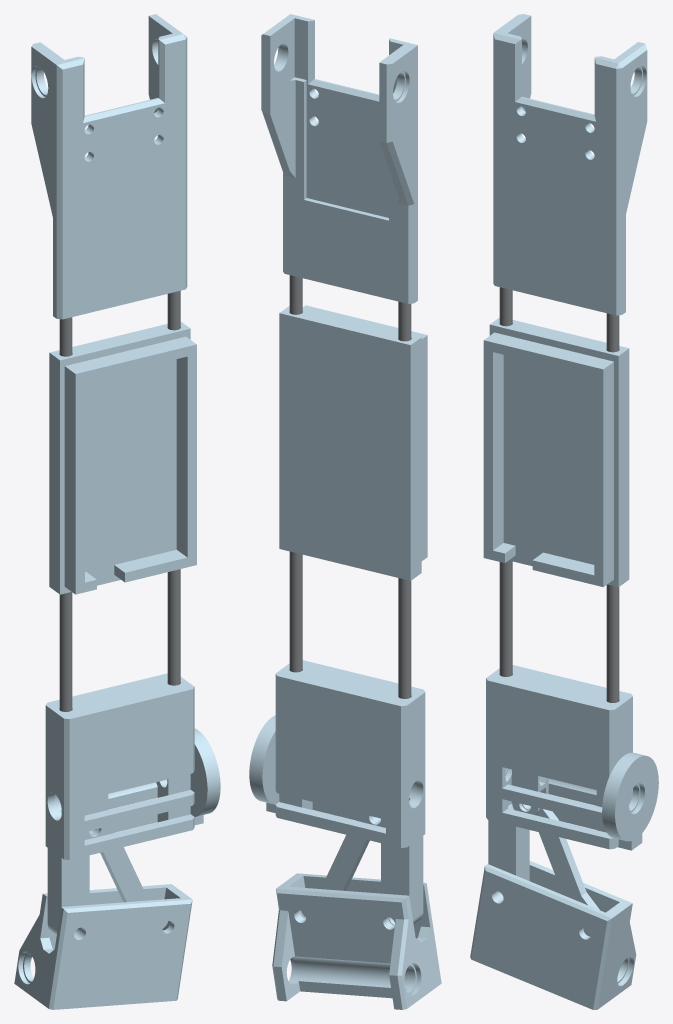
Rendered from Slim.glb.
3 renders of one model, left to right at view 1: azimuth 30°, elevation 25°; view 2: azimuth 150°, elevation 25°; view 3: azimuth 330°, elevation 25°, orthographic.
Visible parts, largest first — view 1: ArduinoHolder, BackPartImproved, SwivelV2, FrontV2, Part 1 (×2), SwivelAttachV2, BentArm, BoltHolderV3; view 2: ArduinoHolder, BackPartImproved, SwivelV2, FrontV2, Part 1 (×2), SwivelAttachV2, BentArm; view 3: ArduinoHolder, BackPartImproved, SwivelV2, FrontV2, SwivelAttachV2, Part 1 (×2), BentArm, BoltHolderV3.
Part boxes in pixels (x1,y1,x2,y2): ArduinoHolder: (49,321,196,594); BackPartImproved: (31,14,187,319); SwivelV2: (45,673,194,936); FrontV2: (14,884,192,1009); Part 1 (×2): (59,290,180,711); SwivelAttachV2: (156,728,220,825); BentArm: (89,828,167,928); BoltHolderV3: (84,794,108,839); ArduinoHolder: (279,305,427,580); BackPartImproved: (261,14,417,303); SwivelV2: (275,660,425,925); FrontV2: (272,873,441,1009); Part 1 (×2): (289,275,411,698); SwivelAttachV2: (249,715,312,812); BentArm: (301,816,380,916); ArduinoHolder: (483,317,629,587); BackPartImproved: (493,14,647,315); SwivelV2: (486,665,632,900); FrontV2: (470,861,636,1009); SwivelAttachV2: (596,752,658,850); Part 1 (×2): (499,287,619,702); BentArm: (522,804,599,934); BoltHolderV3: (512,769,548,815).
Size of the model in its own units: 0.0854 by 0.4898 by 0.0451.
